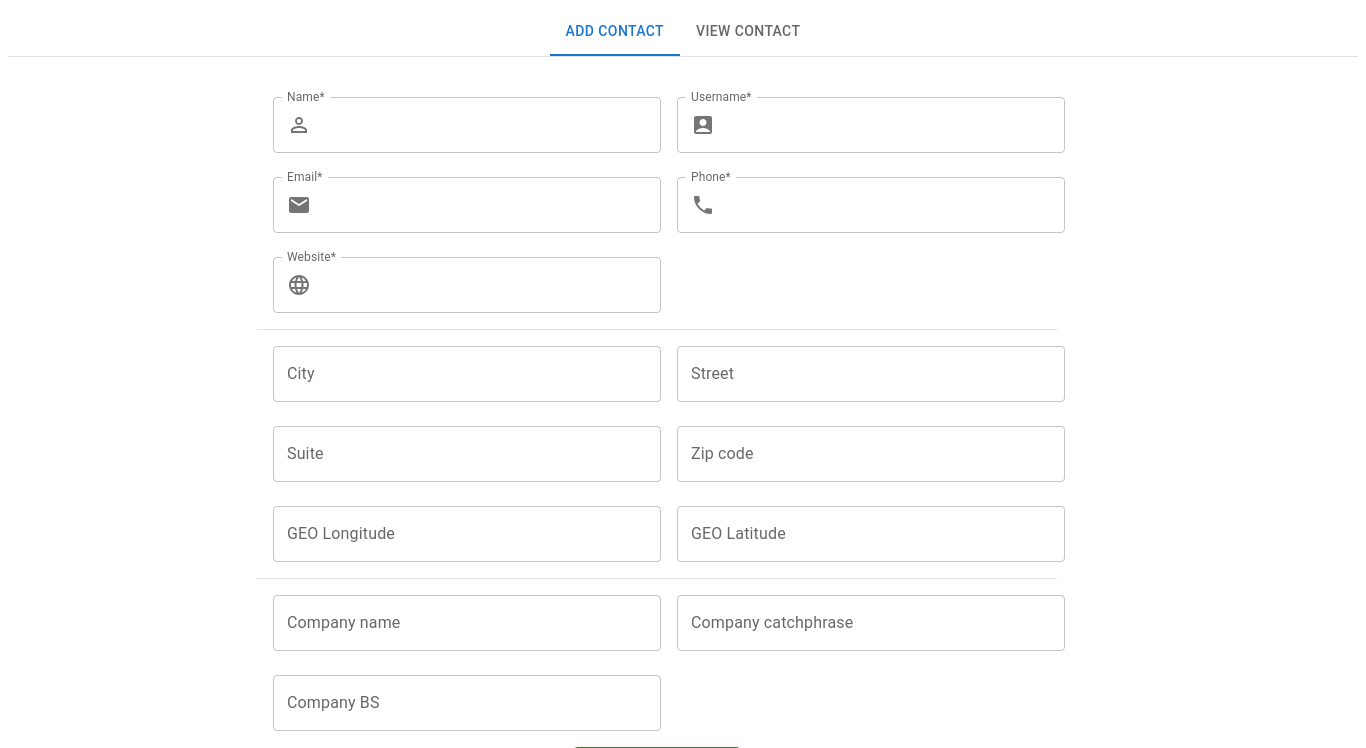
Test: TEST - APP page change working
Click the tab "View Contact": (748, 32) x1=680 y1=8 x2=816 y2=56
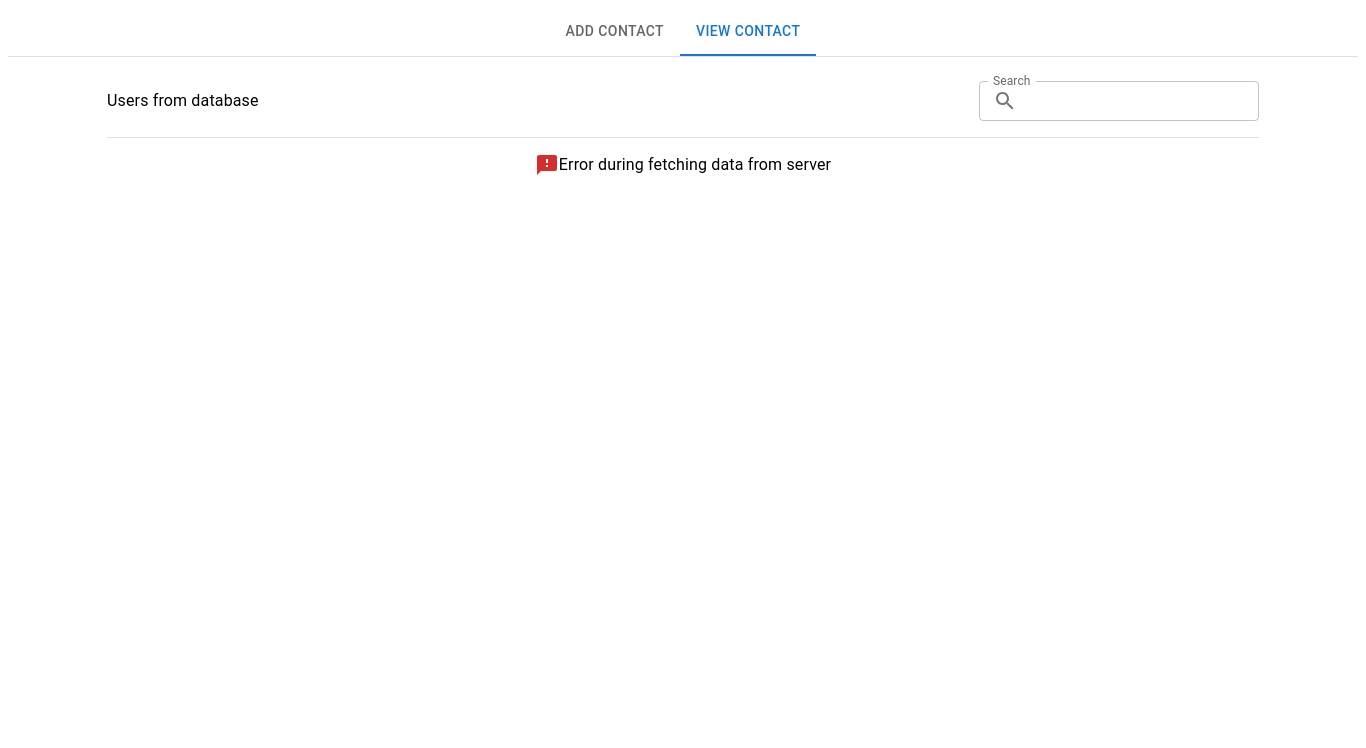
expect the text "Users from database" is shown: met, box x1=107 y1=89 x2=259 y2=113
